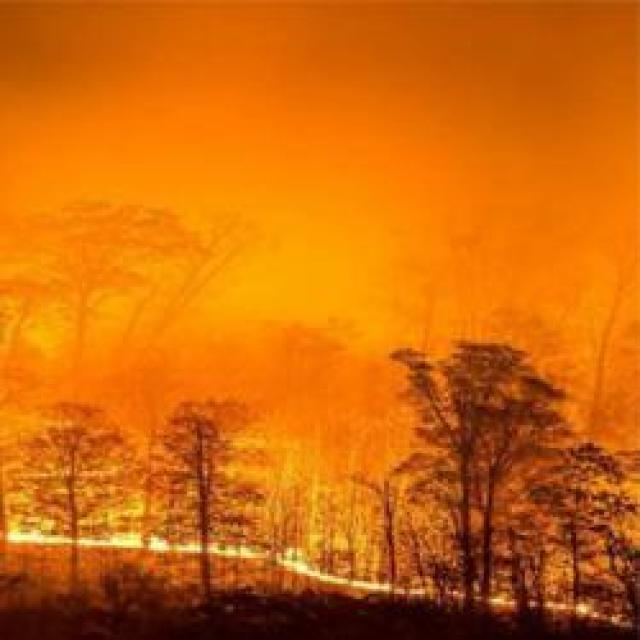Fire: (10, 522, 298, 567), (297, 564, 533, 616), (524, 596, 638, 636)
Smoke: (20, 6, 640, 466)
